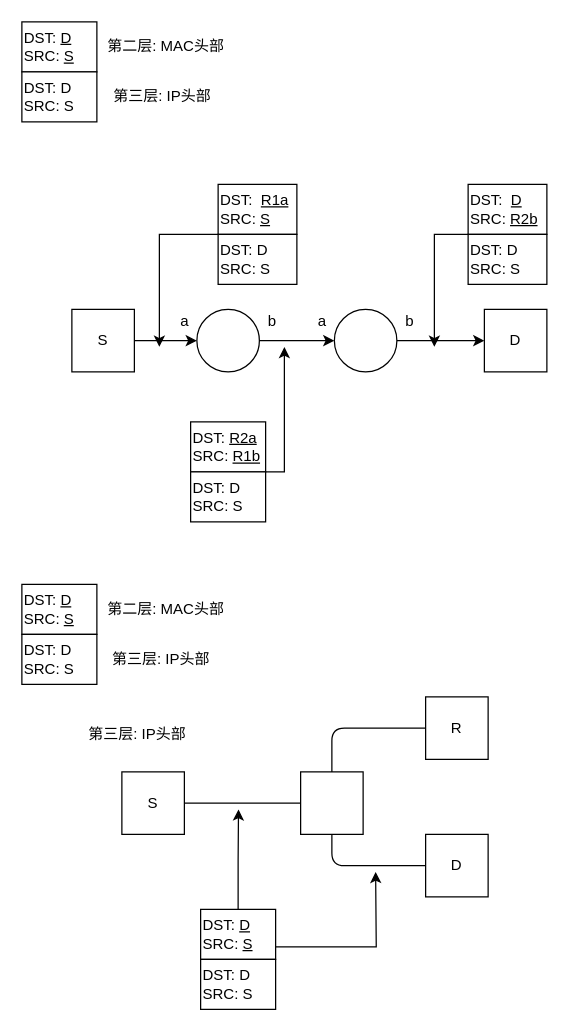
The diagram is 569 pixels wide and 1031 high, and some of its shapes have lost their labels. Here are the shapes that lost their labels. From the top down, the centre of each, then its label:
At (x=227, y=340): "R1".
At (x=365, y=340): "R2".
At (x=331, y=802): "交换机".
